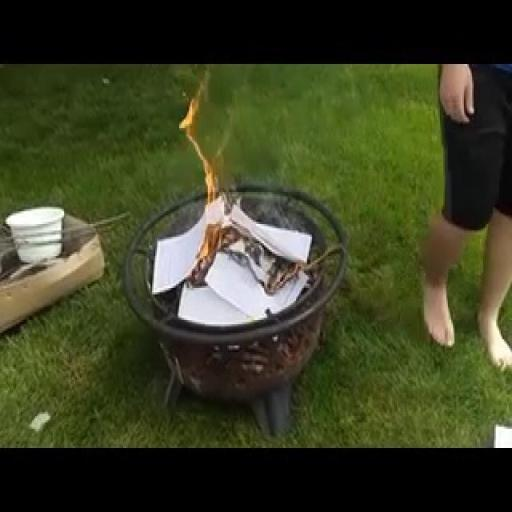smoke: (182, 65, 231, 264)
